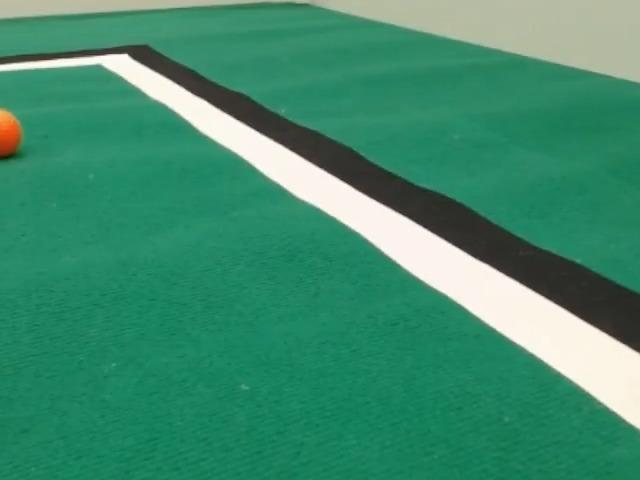Ball: (0, 108, 22, 158)
